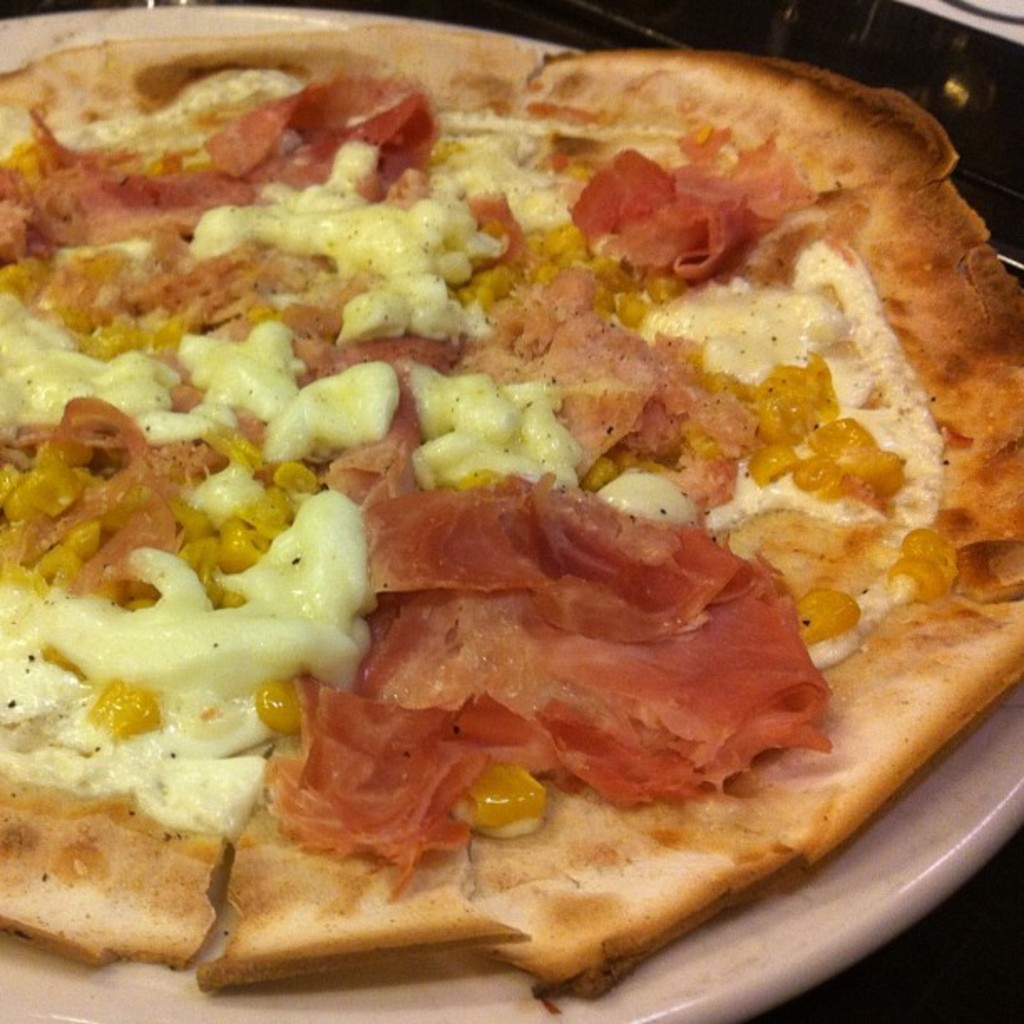Pizza: (0, 18, 1022, 967)
